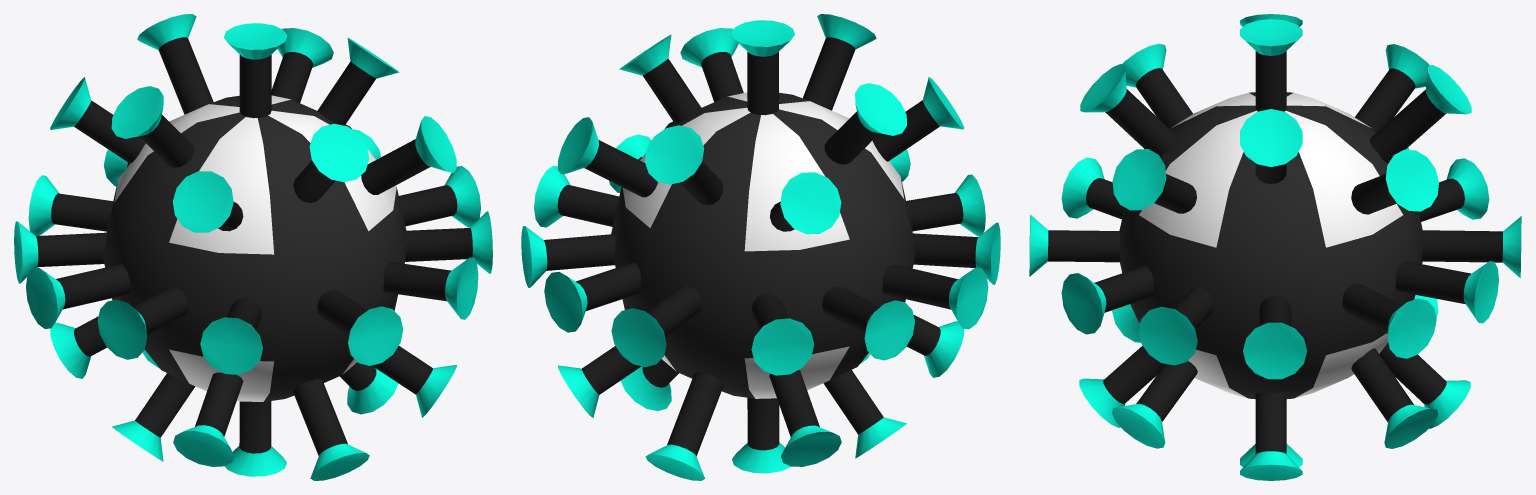
Rendered from StickyGrenade.FBX.
3 renders of one model, left to right at view 1: azimuth 30°, elevation 25°; view 2: azimuth 150°, elevation 25°; view 3: azimuth 270°, elevation 25°, orthographic.
Visible parts, largest first — view 1: Cylinder001, Sphere001; view 2: Cylinder001, Sphere001; view 3: Cylinder001, Sphere001.
Part boxes in pixels (<box>): Cylinder001: <box>14,14,492,480</box>; Sphere001: <box>103,95,406,401</box>; Cylinder001: <box>521,14,1000,480</box>; Sphere001: <box>611,92,914,398</box>; Cylinder001: <box>1029,14,1521,480</box>; Sphere001: <box>1119,92,1422,399</box>.
Size of the model in its own units: 4.93 by 4.93 by 4.74.
